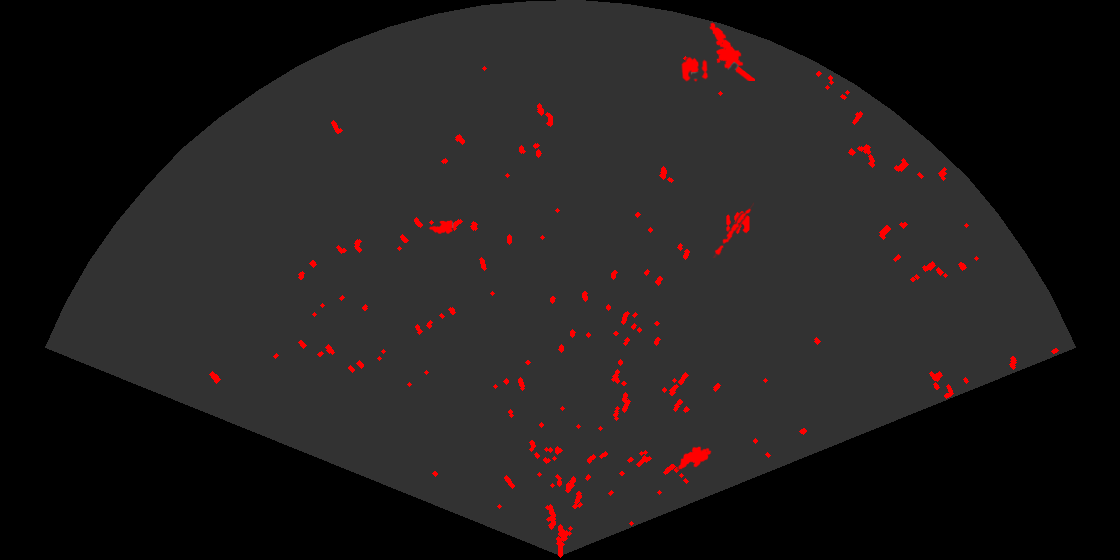AUV: (676, 445, 713, 471), (427, 219, 454, 234)
ball: (680, 55, 710, 83), (725, 210, 751, 236)
chain: (711, 201, 754, 258)
frogman: (708, 21, 755, 81)
